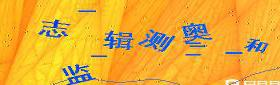chinese: (142, 26, 176, 55), (176, 20, 215, 44), (39, 17, 74, 42), (102, 29, 135, 53), (62, 65, 97, 85), (245, 35, 270, 58)
